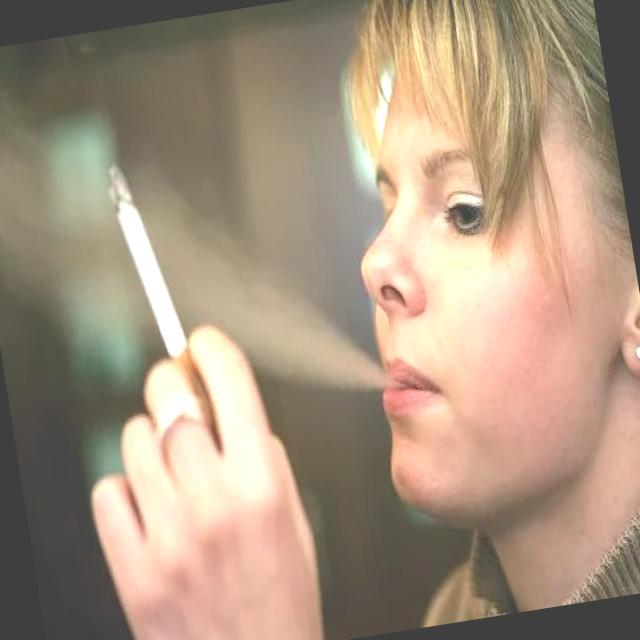cigarette: (100, 148, 219, 434)
